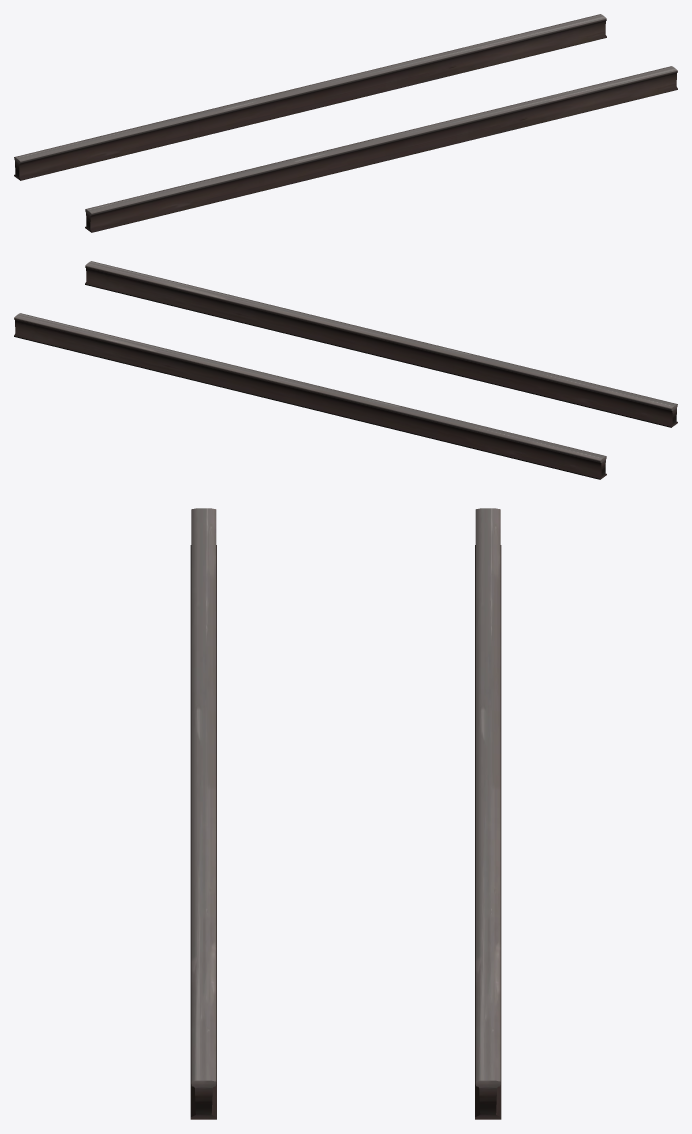
The picture shows the model from 3 angles, top to bottom: view 1: azimuth 30°, elevation 25°; view 2: azimuth 150°, elevation 25°; view 3: azimuth 270°, elevation 25°; orthographic projection. The views are drawn at different scales.
Parts seen in each view (by area): view 1: body0_model0_lod0_mesh0; view 2: body0_model0_lod0_mesh0; view 3: body0_model0_lod0_mesh0.
Boxes of the visible parts, left/top/right/bottom form: body0_model0_lod0_mesh0: left=14, top=14, right=677, bottom=232; body0_model0_lod0_mesh0: left=14, top=261, right=677, bottom=479; body0_model0_lod0_mesh0: left=190, top=508, right=501, bottom=1119.
Size of the model in its own units: 128 by 4.09 by 29.36.
Materials: 1 (1 with a texture image).
